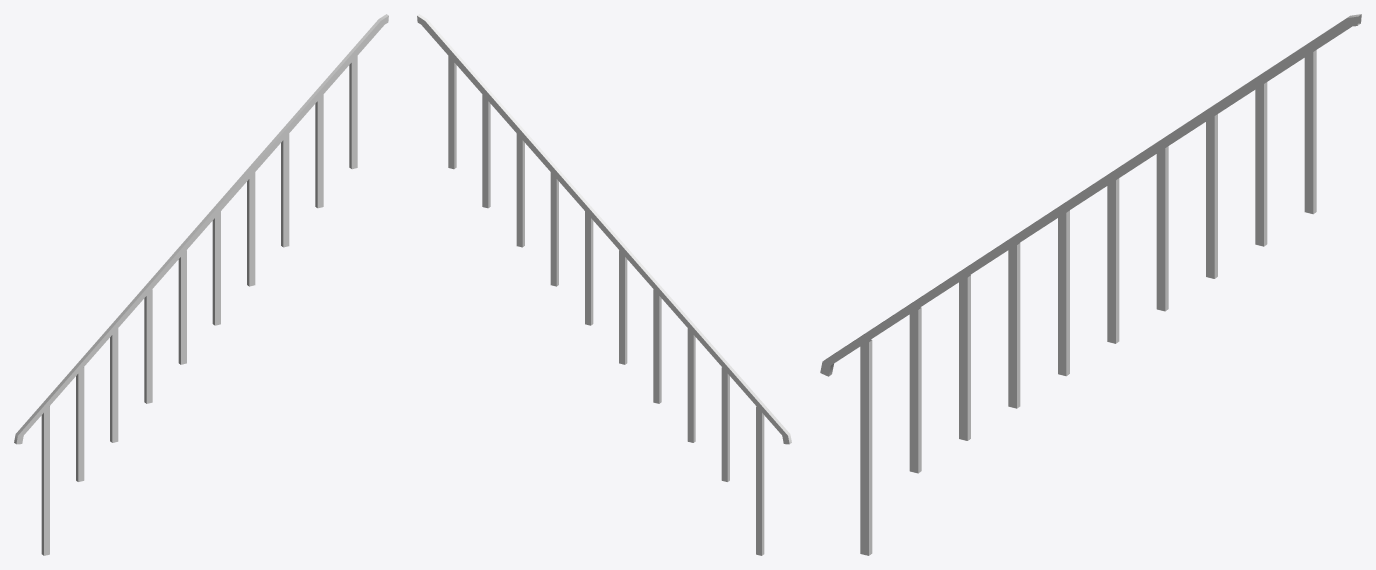
The model's file is street_restaurant_stairsfence.FBX.
The picture shows the model from 3 angles, left to right: view 1: azimuth 30°, elevation 25°; view 2: azimuth 150°, elevation 25°; view 3: azimuth 330°, elevation 25°; orthographic projection. The views are drawn at different scales.
Parts seen in each view (by area): view 1: street_restaurant_stairsfence; view 2: street_restaurant_stairsfence; view 3: street_restaurant_stairsfence.
Part boxes in pixels (left/top/right/bottom): street_restaurant_stairsfence: left=14, top=14, right=388, bottom=555; street_restaurant_stairsfence: left=417, top=14, right=791, bottom=555; street_restaurant_stairsfence: left=820, top=14, right=1361, bottom=555.
Bounding box in the file's own units: 272 × 319 × 2.95.
